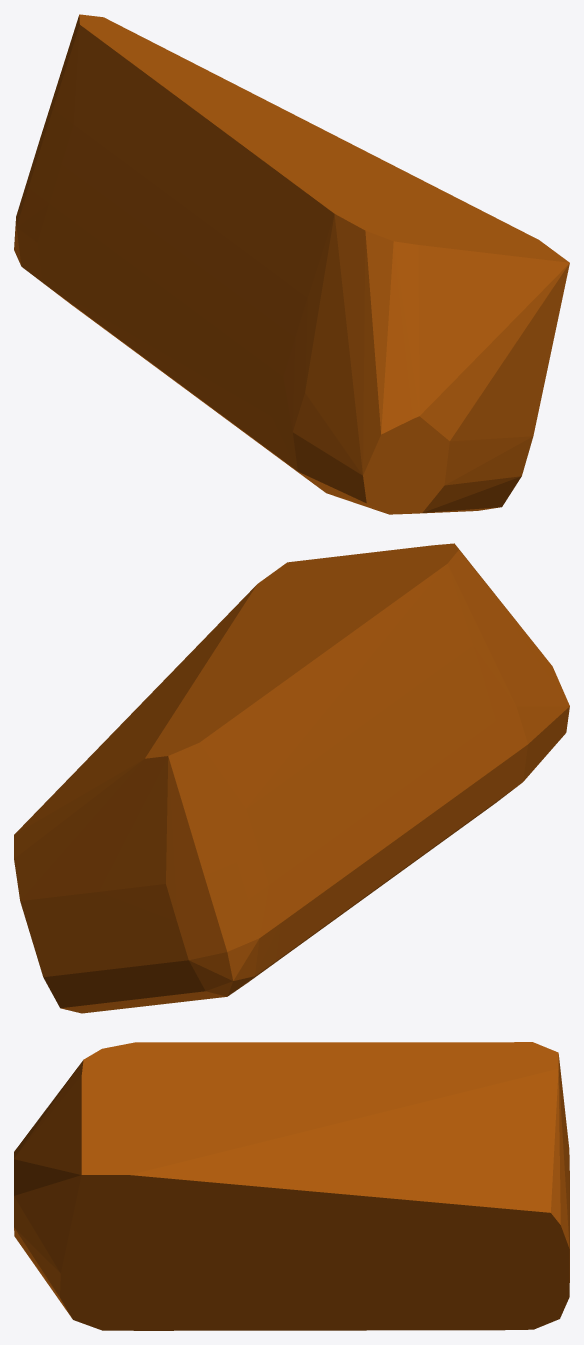
File: converted_Downdraft_Assy_collision_91_ac5707ff.obj
3 renders of one model, top to bottom at view 1: azimuth 30°, elevation 25°; view 2: azimuth 150°, elevation 25°; view 3: azimuth 270°, elevation 25°, orthographic. The views are drawn at different scales.
Bounding box in the file's own units: 0.1075 × 0.1218 × 0.2526.
